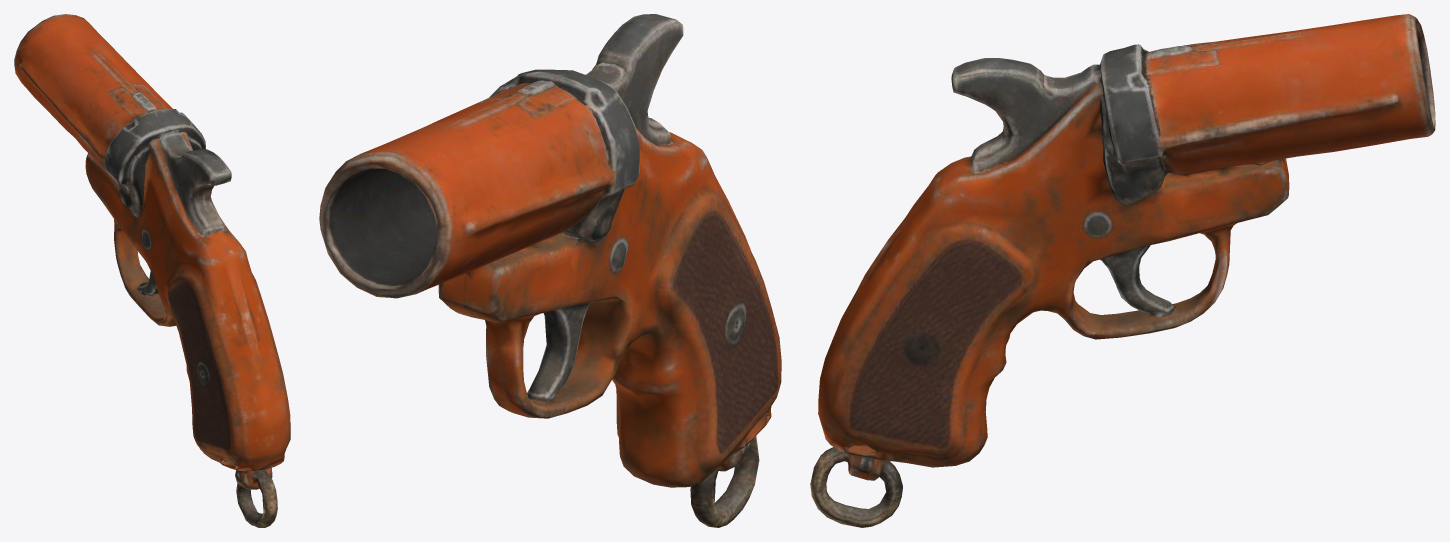
File: flare-pistol.glb
The picture shows the model from 3 angles, left to right: view 1: azimuth 30°, elevation 25°; view 2: azimuth 150°, elevation 25°; view 3: azimuth 270°, elevation 25°; orthographic projection. The views are drawn at different scales.
Parts seen in each view (by area): view 1: Mesh_0; view 2: Mesh_0; view 3: Mesh_0.
Boxes of the visible parts, x1,y1,x2,y2 form: Mesh_0: (14,14,290,527); Mesh_0: (319,14,781,527); Mesh_0: (810,14,1435,527).
Bounding box in the file's own units: 0.0499 × 0.1971 × 0.22.
1 material, 1 textured.
